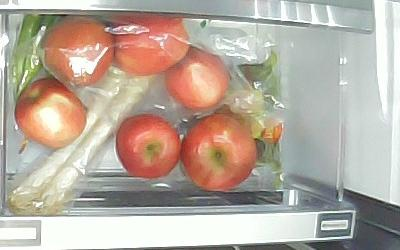apple: (182, 114, 256, 190), (15, 77, 87, 148), (115, 114, 181, 177)
apple_vinyl: (41, 17, 114, 88), (112, 17, 191, 77), (166, 45, 228, 108)
